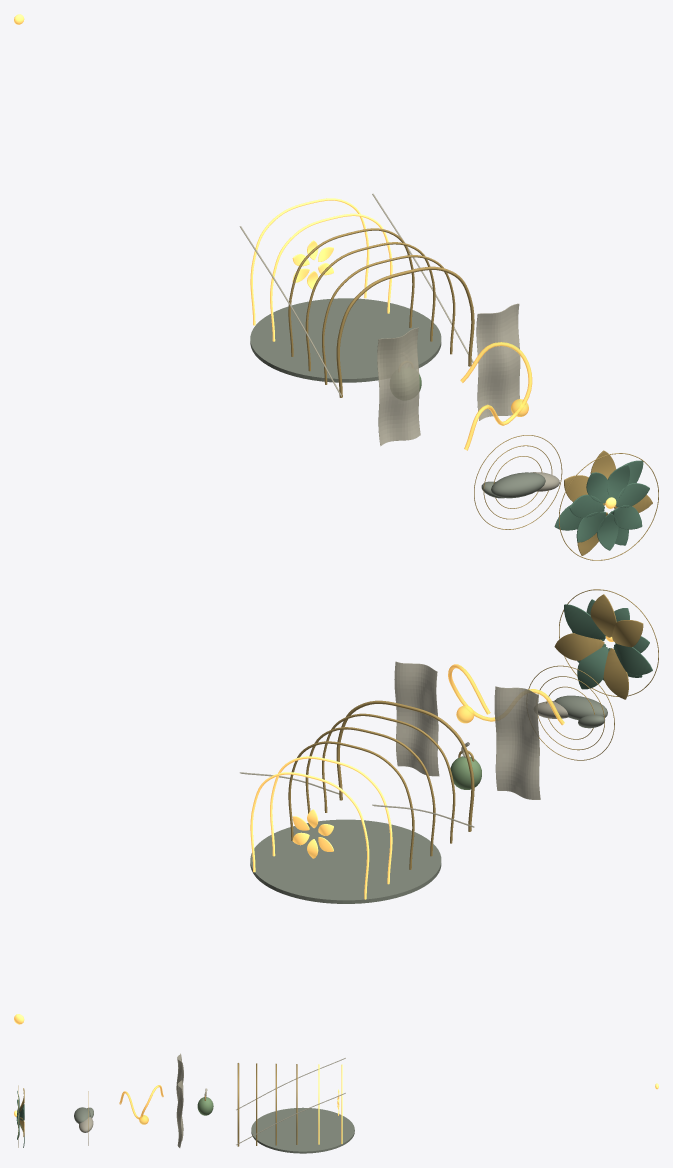
File: seraphin-passage.glb
3 views of the same model, one above another, from view 1: azimuth 30°, elevation 25°; view 2: azimuth 150°, elevation 25°; view 3: azimuth 270°, elevation 25° (orthographic). The views are drawn at different scales.
Visible parts, largest first — view 1: SanctuaryFloor, LinenPassageLeft, LinenPassage, SanctuaryArch_00, WarmStone_00, OilRibbon, SanctuaryArch_01, SanctuaryArch_02, SanctuaryArch_03, SanctuaryArch_04, SanctuaryArch_05; view 2: SanctuaryFloor, LinenPassageLeft, LinenPassage, SanctuaryArch_00, BloomPetal_06, BloomPetal_04, SanctuaryArch_01, SanctuaryArch_05, SanctuaryArch_04, SanctuaryArch_03, SanctuaryArch_02, OilRibbon (+7 smaller); view 3: SanctuaryFloor, LinenPassage, OilRibbon, HerbalCompress, SanctuaryArch_00, LinenPassageLeft, WarmStone_00, LinenRail_3.4.
Part boxes in pixels (bbox=[...]): SanctuaryFloor: bbox=[250, 298, 441, 382]; LinenPassageLeft: bbox=[377, 327, 420, 446]; LinenPassage: bbox=[476, 303, 520, 420]; SanctuaryArch_00: bbox=[336, 266, 474, 397]; WarmStone_00: bbox=[491, 472, 545, 498]; OilRibbon: bbox=[460, 342, 532, 450]; SanctuaryArch_01: bbox=[322, 255, 455, 384]; SanctuaryArch_02: bbox=[305, 242, 435, 371]; SanctuaryArch_03: bbox=[288, 228, 414, 356]; SanctuaryArch_04: bbox=[270, 213, 392, 341]; SanctuaryArch_05: bbox=[250, 198, 369, 325]; SanctuaryFloor: bbox=[250, 819, 441, 903]; LinenPassageLeft: bbox=[494, 686, 540, 799]; LinenPassage: bbox=[394, 661, 439, 776]; SanctuaryArch_00: bbox=[336, 700, 474, 831]; BloomPetal_06: bbox=[577, 647, 608, 689]; BloomPetal_04: bbox=[554, 633, 604, 660]; SanctuaryArch_01: bbox=[322, 713, 455, 843]; SanctuaryArch_05: bbox=[250, 772, 369, 899]; SanctuaryArch_04: bbox=[270, 756, 392, 884]; SanctuaryArch_03: bbox=[288, 741, 414, 869]; SanctuaryArch_02: bbox=[305, 727, 435, 856]; OilRibbon: bbox=[448, 664, 564, 725]; SanctuaryFloor: bbox=[251, 1107, 354, 1153]; LinenPassage: bbox=[176, 1080, 183, 1147]; OilRibbon: bbox=[119, 1085, 163, 1119]; HerbalCompress: bbox=[197, 1097, 213, 1115]; SanctuaryArch_00: bbox=[237, 1063, 239, 1146]; LinenPassageLeft: bbox=[176, 1053, 183, 1114]; WarmStone_00: bbox=[74, 1107, 90, 1123]; LinenRail_3.4: bbox=[236, 1093, 345, 1145].
Bounding box in the file's own units: 8.5 × 7.32 × 52.93.
